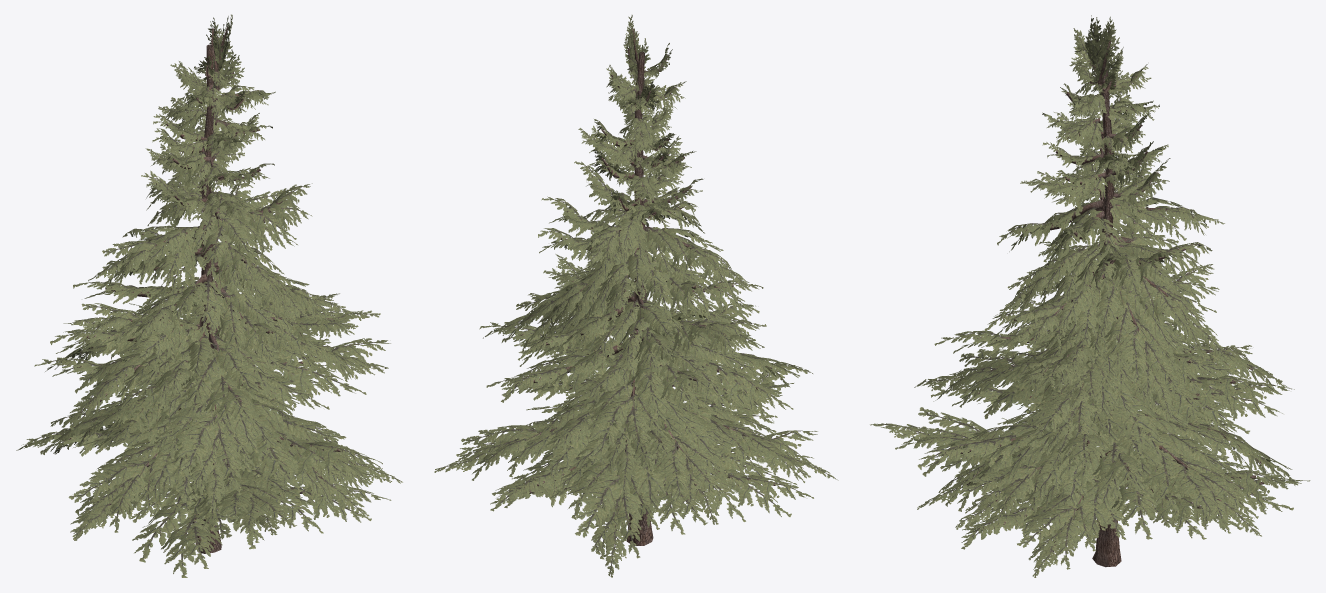
The model's file is SM_Fir_Summer.fbx.
The picture shows the model from 3 angles, left to right: view 1: azimuth 30°, elevation 25°; view 2: azimuth 150°, elevation 25°; view 3: azimuth 270°, elevation 25°; orthographic projection. The views are drawn at different scales.
Visible parts, largest first — view 1: SM_Fir_Summer_LOD0; view 2: SM_Fir_Summer_LOD0; view 3: SM_Fir_Summer_LOD0.
Boxes of the visible parts, bbox=[...] form: SM_Fir_Summer_LOD0: bbox=[16, 14, 402, 577]; SM_Fir_Summer_LOD0: bbox=[434, 15, 838, 577]; SM_Fir_Summer_LOD0: bbox=[870, 15, 1310, 577].
Bounding box in the file's own units: 1326 × 1419 × 1960.
2 materials, 2 textured.
